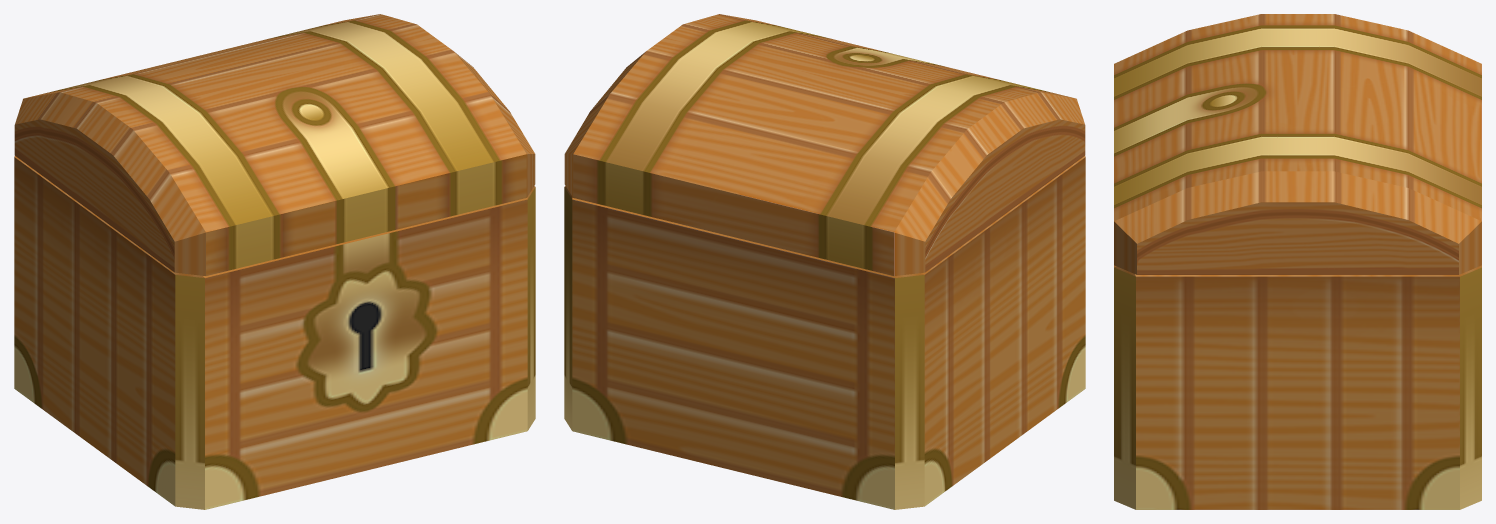
The model's file is chest_gold.fbx.
The picture shows the model from 3 angles, left to right: view 1: azimuth 30°, elevation 25°; view 2: azimuth 150°, elevation 25°; view 3: azimuth 270°, elevation 25°; orthographic projection.
Parts seen in each view (by area): view 1: base, lid; view 2: base, lid; view 3: lid, base.
Boxes of the visible parts, x1=… form: base: x1=14, y1=156, x2=535, y2=509; lid: x1=14, y1=14, x2=535, y2=275; base: x1=564, y1=156, x2=1085, y2=509; lid: x1=564, y1=14, x2=1085, y2=275; lid: x1=1114, y1=14, x2=1481, y2=274; base: x1=1114, y1=265, x2=1481, y2=509.
Bounding box in the file's own units: 99.87 × 86.55 × 87.75.
Materials: 2 (2 with a texture image).
